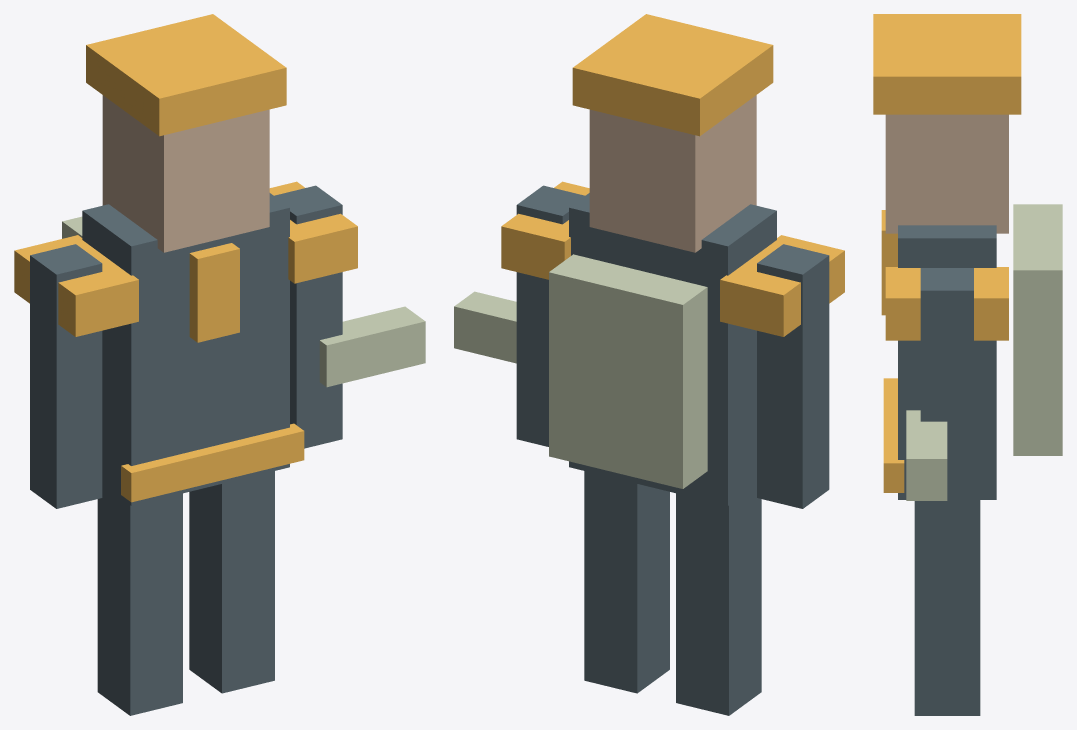
Rendered from 09_dax_emberkin_archivist_under_entry.glb.
3 views of the same model, side by side, from view 1: azimuth 30°, elevation 25°; view 2: azimuth 150°, elevation 25°; view 3: azimuth 270°, elevation 25° (orthographic).
Visible parts, largest first — view 1: Dax Emberkin, Archivist under Entry; view 2: Dax Emberkin, Archivist under Entry; view 3: Dax Emberkin, Archivist under Entry.
Boxes of the visible parts, bbox=[...] form: Dax Emberkin, Archivist under Entry: bbox=[14, 14, 425, 715]; Dax Emberkin, Archivist under Entry: bbox=[454, 14, 844, 715]; Dax Emberkin, Archivist under Entry: bbox=[873, 14, 1062, 715].
Size of the model in its own units: 0.9589 by 1.6 by 0.4303.
